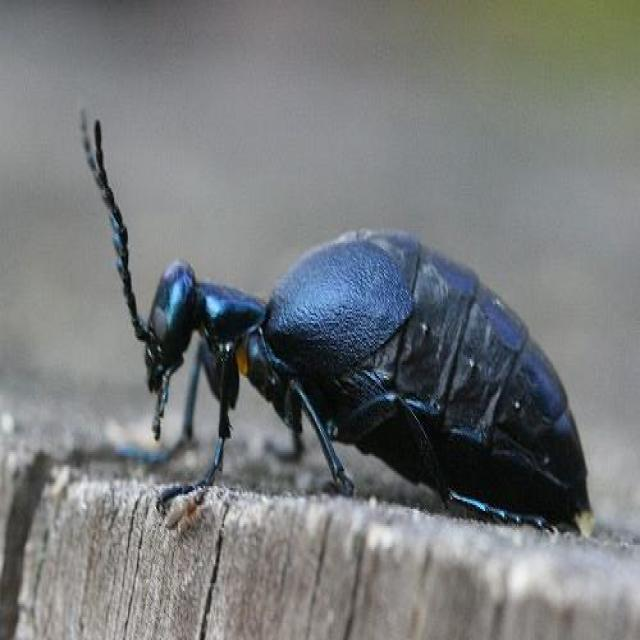BlisterBeetle-Adult-: (70, 102, 599, 530)
